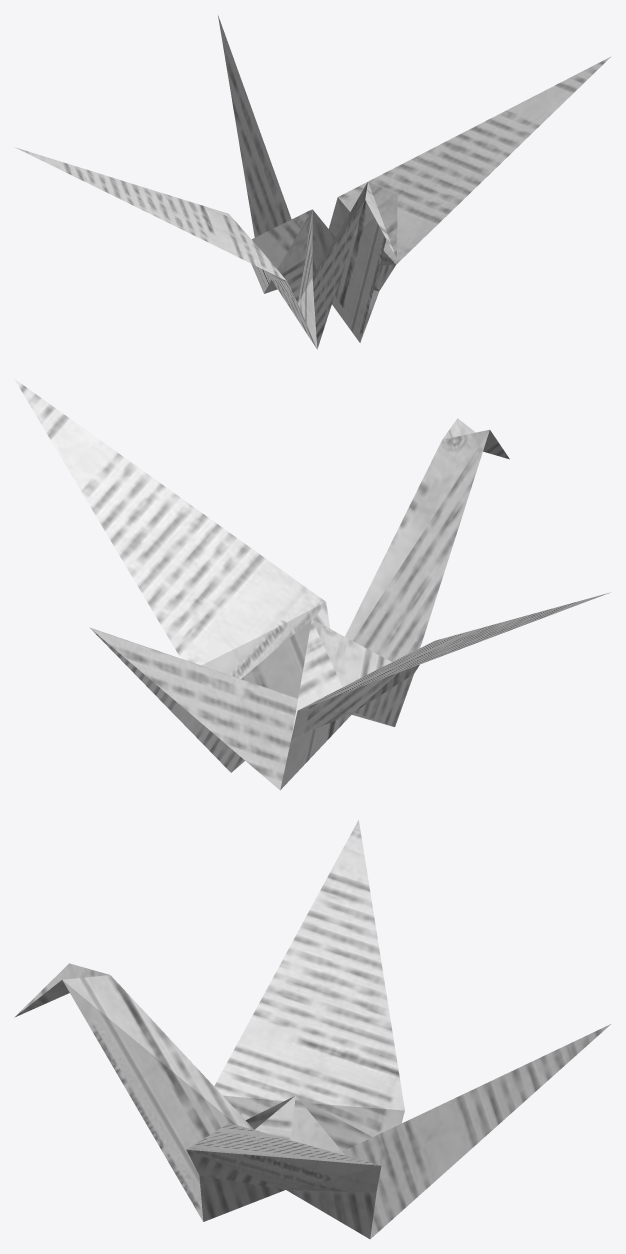
Rendered from Origami.fbx.
3 views of the same model, one above another, from view 1: azimuth 30°, elevation 25°; view 2: azimuth 150°, elevation 25°; view 3: azimuth 270°, elevation 25° (orthographic). The views are drawn at different scales.
Parts seen in each view (by area): view 1: Oragami; view 2: Oragami; view 3: Oragami.
Part boxes in pixels (x1,y1,x2,y2): Oragami: [15, 15, 611, 349]; Oragami: [14, 379, 609, 790]; Oragami: [14, 820, 610, 1239].
Size of the model in its own units: 0.6901 by 0.2647 by 0.5747.
